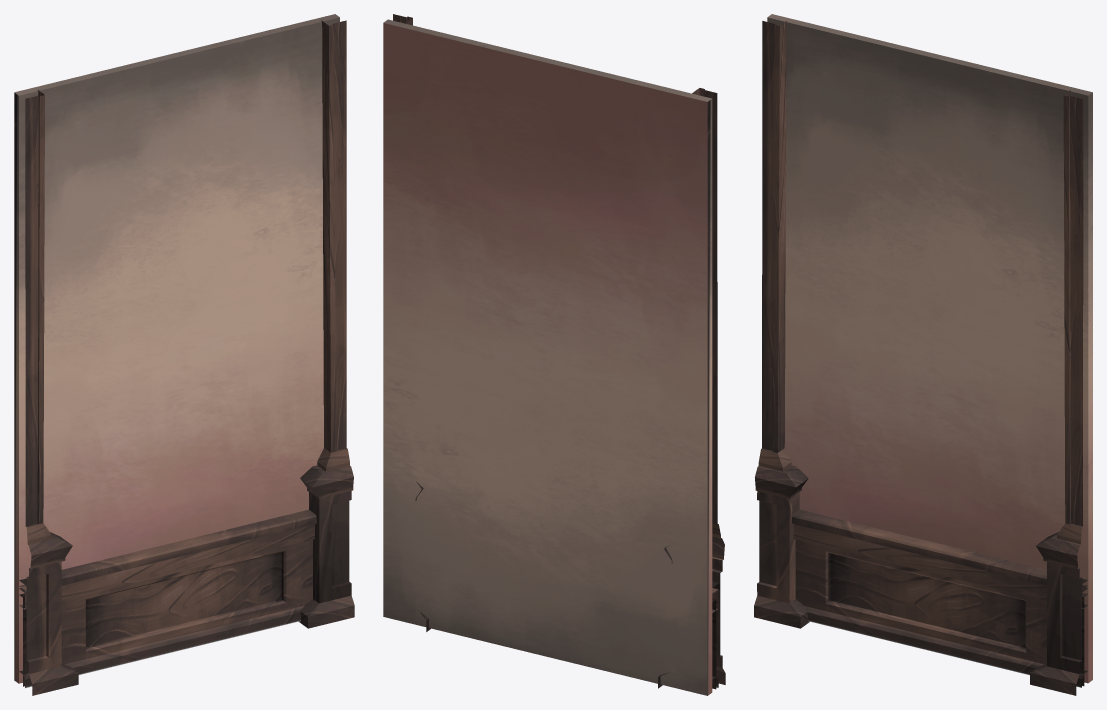
Rendered from Wall_Bot_Straight_V1.fbx.
3 renders of one model, left to right at view 1: azimuth 30°, elevation 25°; view 2: azimuth 150°, elevation 25°; view 3: azimuth 330°, elevation 25°, orthographic.
Visible parts, largest first — view 1: Straight_Wall_Bot; view 2: Straight_Wall_Bot; view 3: Straight_Wall_Bot.
Boxes of the visible parts, box(x1,y1,x2,y2) form: Straight_Wall_Bot: box(14, 14, 354, 695); Straight_Wall_Bot: box(383, 14, 725, 695); Straight_Wall_Bot: box(754, 14, 1092, 695).
Size of the model in its own units: 0.0241 by 0.0422 by 0.00265.
